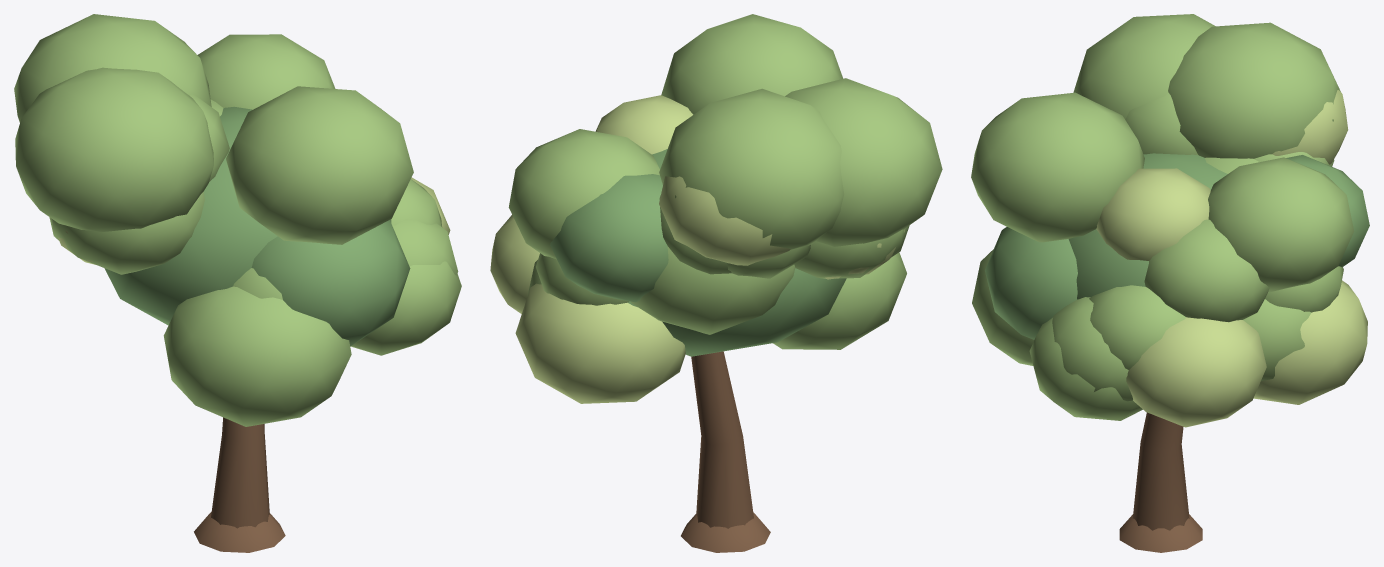
The model's file is tree-large-2.glb.
3 views of the same model, side by side, from view 1: azimuth 30°, elevation 25°; view 2: azimuth 150°, elevation 25°; view 3: azimuth 270°, elevation 25° (orthographic). The views are drawn at different scales.
Parts seen in each view (by area): view 1: tree-large-2; view 2: tree-large-2; view 3: tree-large-2.
Boxes of the visible parts, x1,y1,x2,y2 form: tree-large-2: [14, 14, 461, 552]; tree-large-2: [490, 14, 942, 552]; tree-large-2: [971, 14, 1369, 552].
Size of the model in its own units: 5.83 by 6.52 by 5.04.
